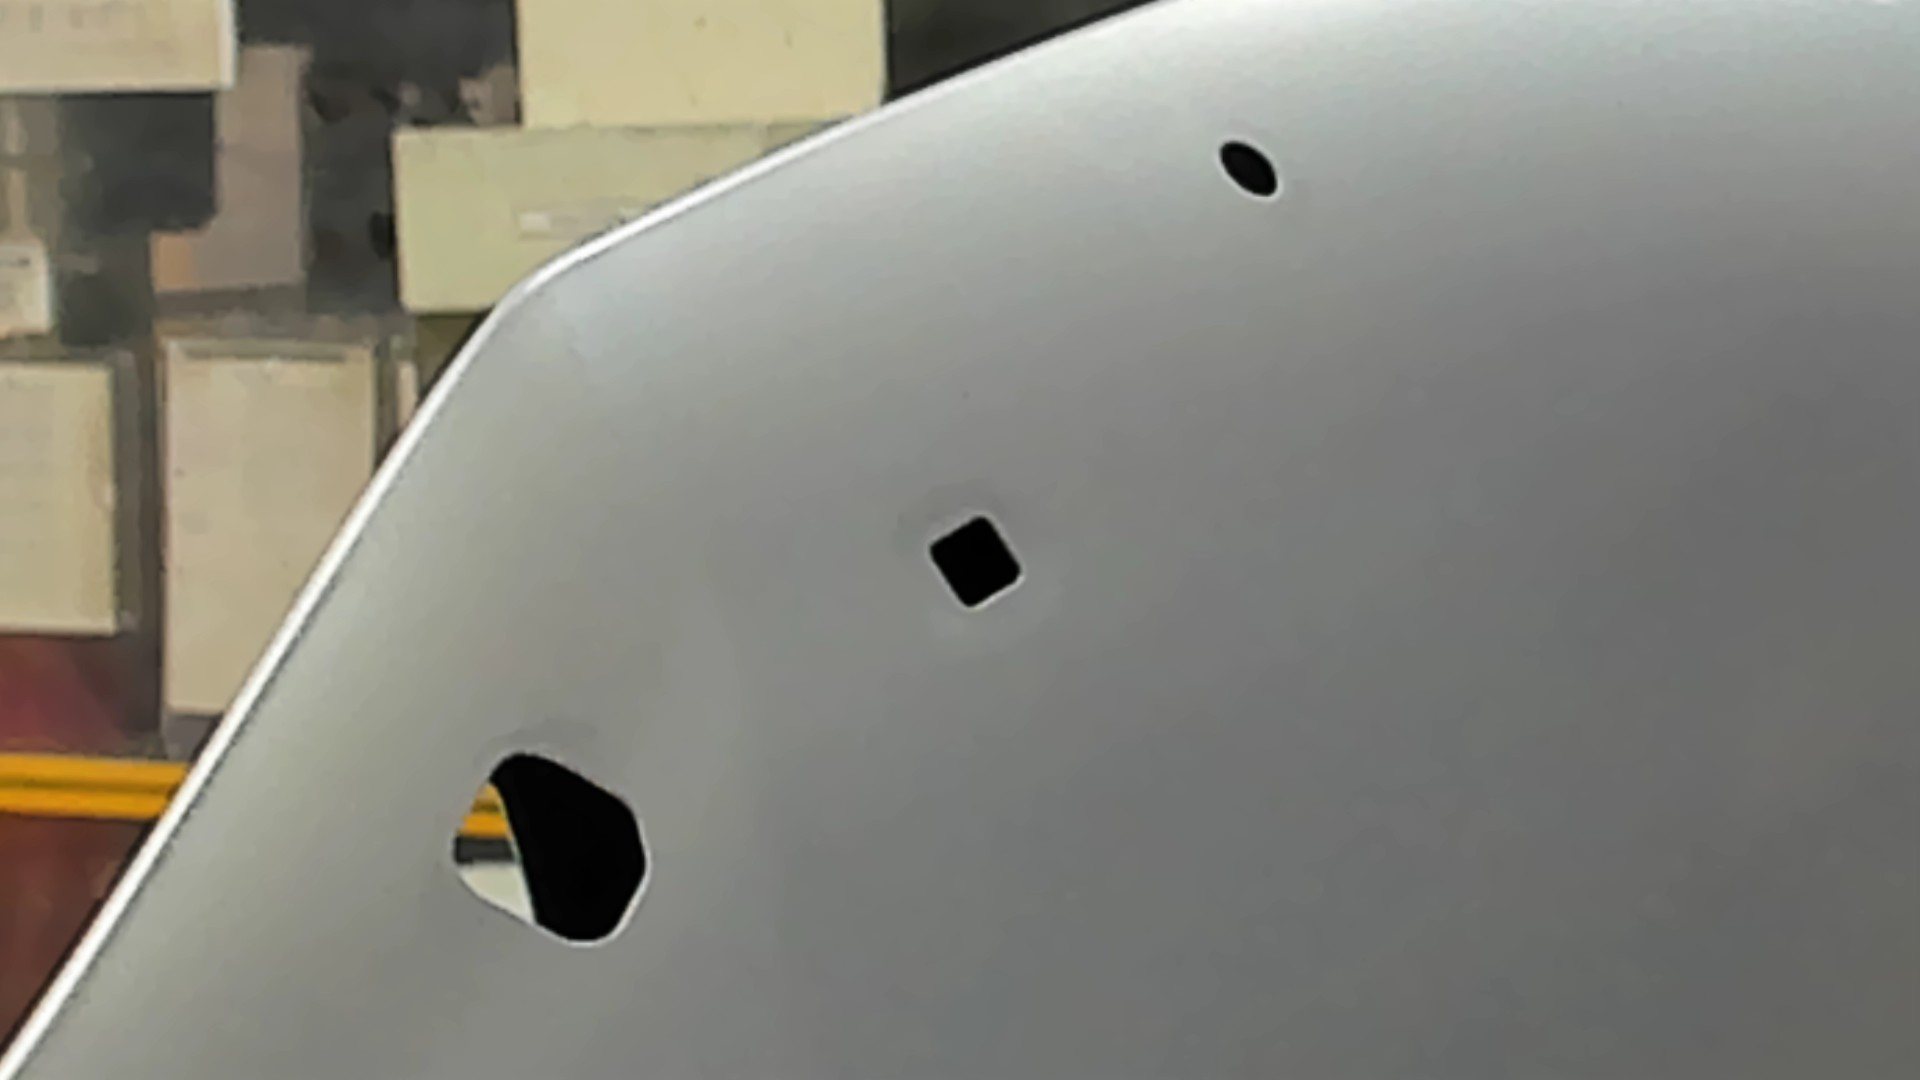chico: (1215, 137, 1282, 200)
grande: (450, 749, 655, 949)
mediano: (924, 510, 1027, 615)
